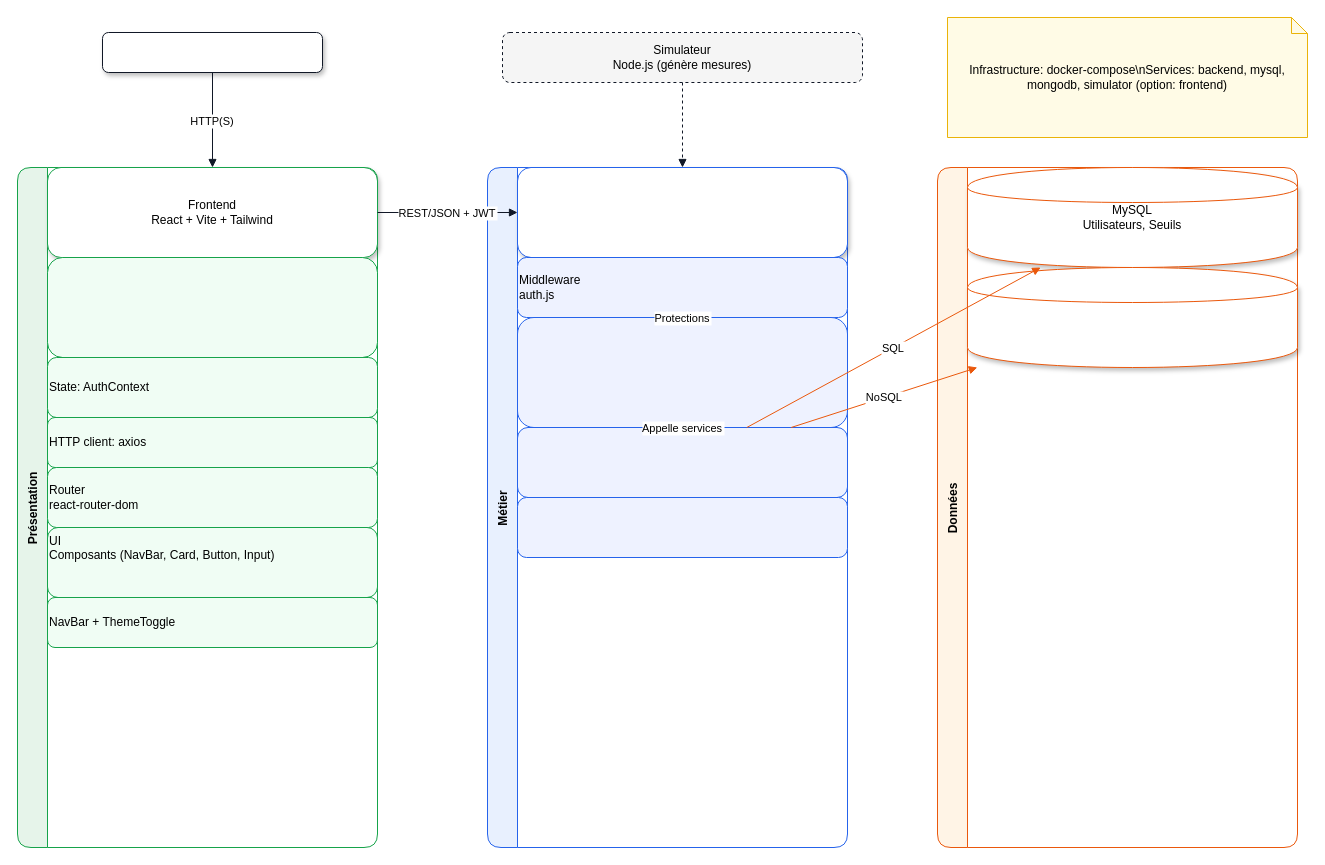
Some shapes in this 1325 by 865 pixel diagram are drawn without their labels. The centre of each missing label's shape, as x and y in pixels:
"API Server\nNode.js + Express" goes at (x=683, y=213).
"Auth (JWT) /login, /register" goes at (x=682, y=527).
"MongoDB Mesures, Alertes" goes at (x=1133, y=318).
"Pages Dashboard, Seuils, Alertes, Auth" goes at (x=212, y=307).
"Routes /auth, /users, /mesures, /seuils, /alertes" goes at (x=682, y=372).
"Services mysql.js, mongo.js" goes at (x=682, y=462).
"Utilisateur (Navigateur)" goes at (x=213, y=54).
